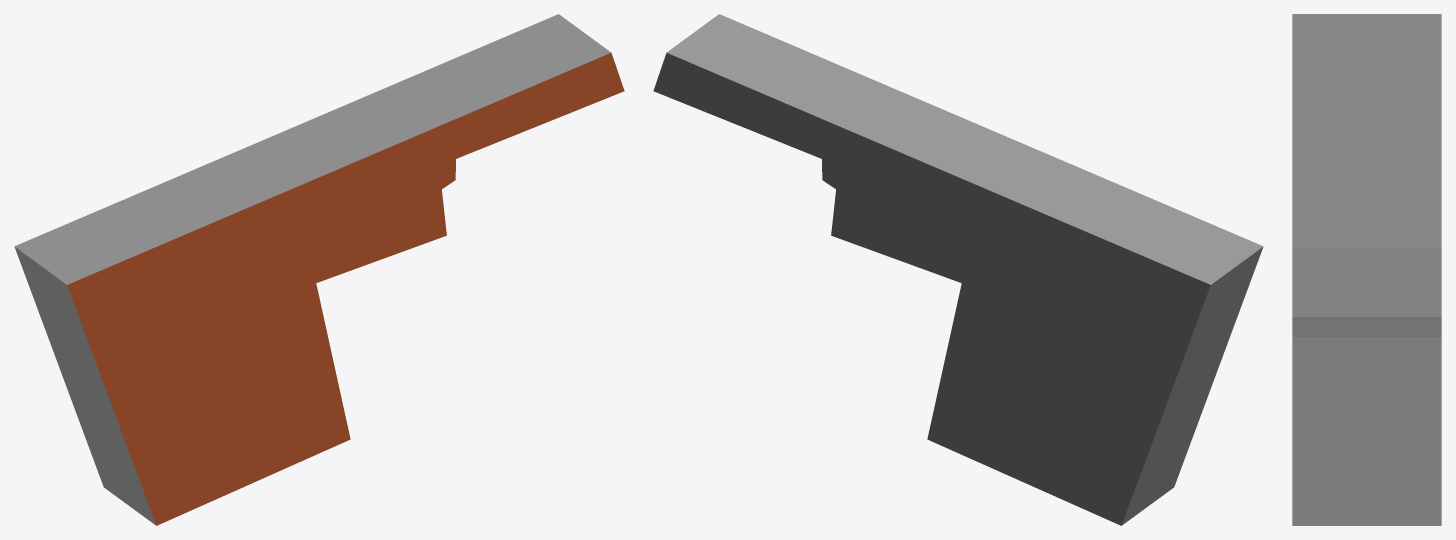
Rendered from construction_5070_assumed_A_Casa_h6m.obj.
3 renders of one model, left to right at view 1: azimuth 30°, elevation 25°; view 2: azimuth 150°, elevation 25°; view 3: azimuth 270°, elevation 25°, orthographic. The views are drawn at different scales.
Visible parts, largest first — view 1: construction_5070_assumed_A_Casa; view 2: construction_5070_assumed_A_Casa; view 3: construction_5070_assumed_A_Casa.
Boxes of the visible parts, x1=… form: construction_5070_assumed_A_Casa: x1=14, y1=14, x2=624, y2=525; construction_5070_assumed_A_Casa: x1=653, y1=14, x2=1263, y2=525; construction_5070_assumed_A_Casa: x1=1292, y1=14, x2=1441, y2=525.
Size of the model in its own units: 36.6 by 22.73 by 6.
